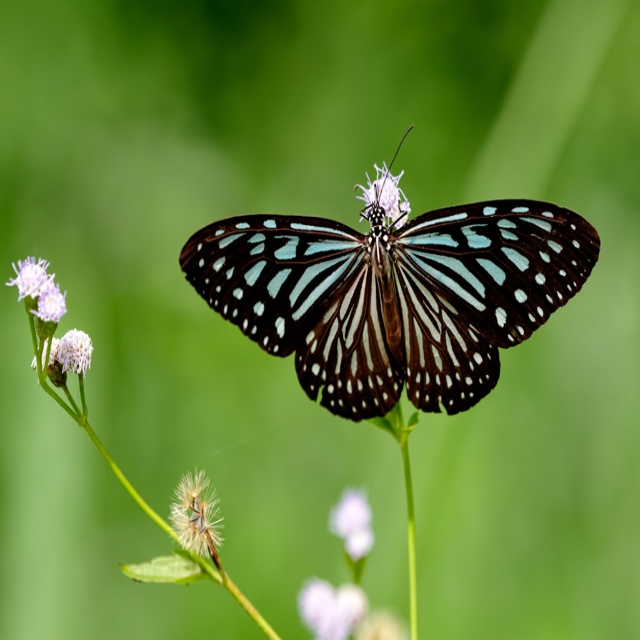Butterfly: (164, 131, 591, 426)
